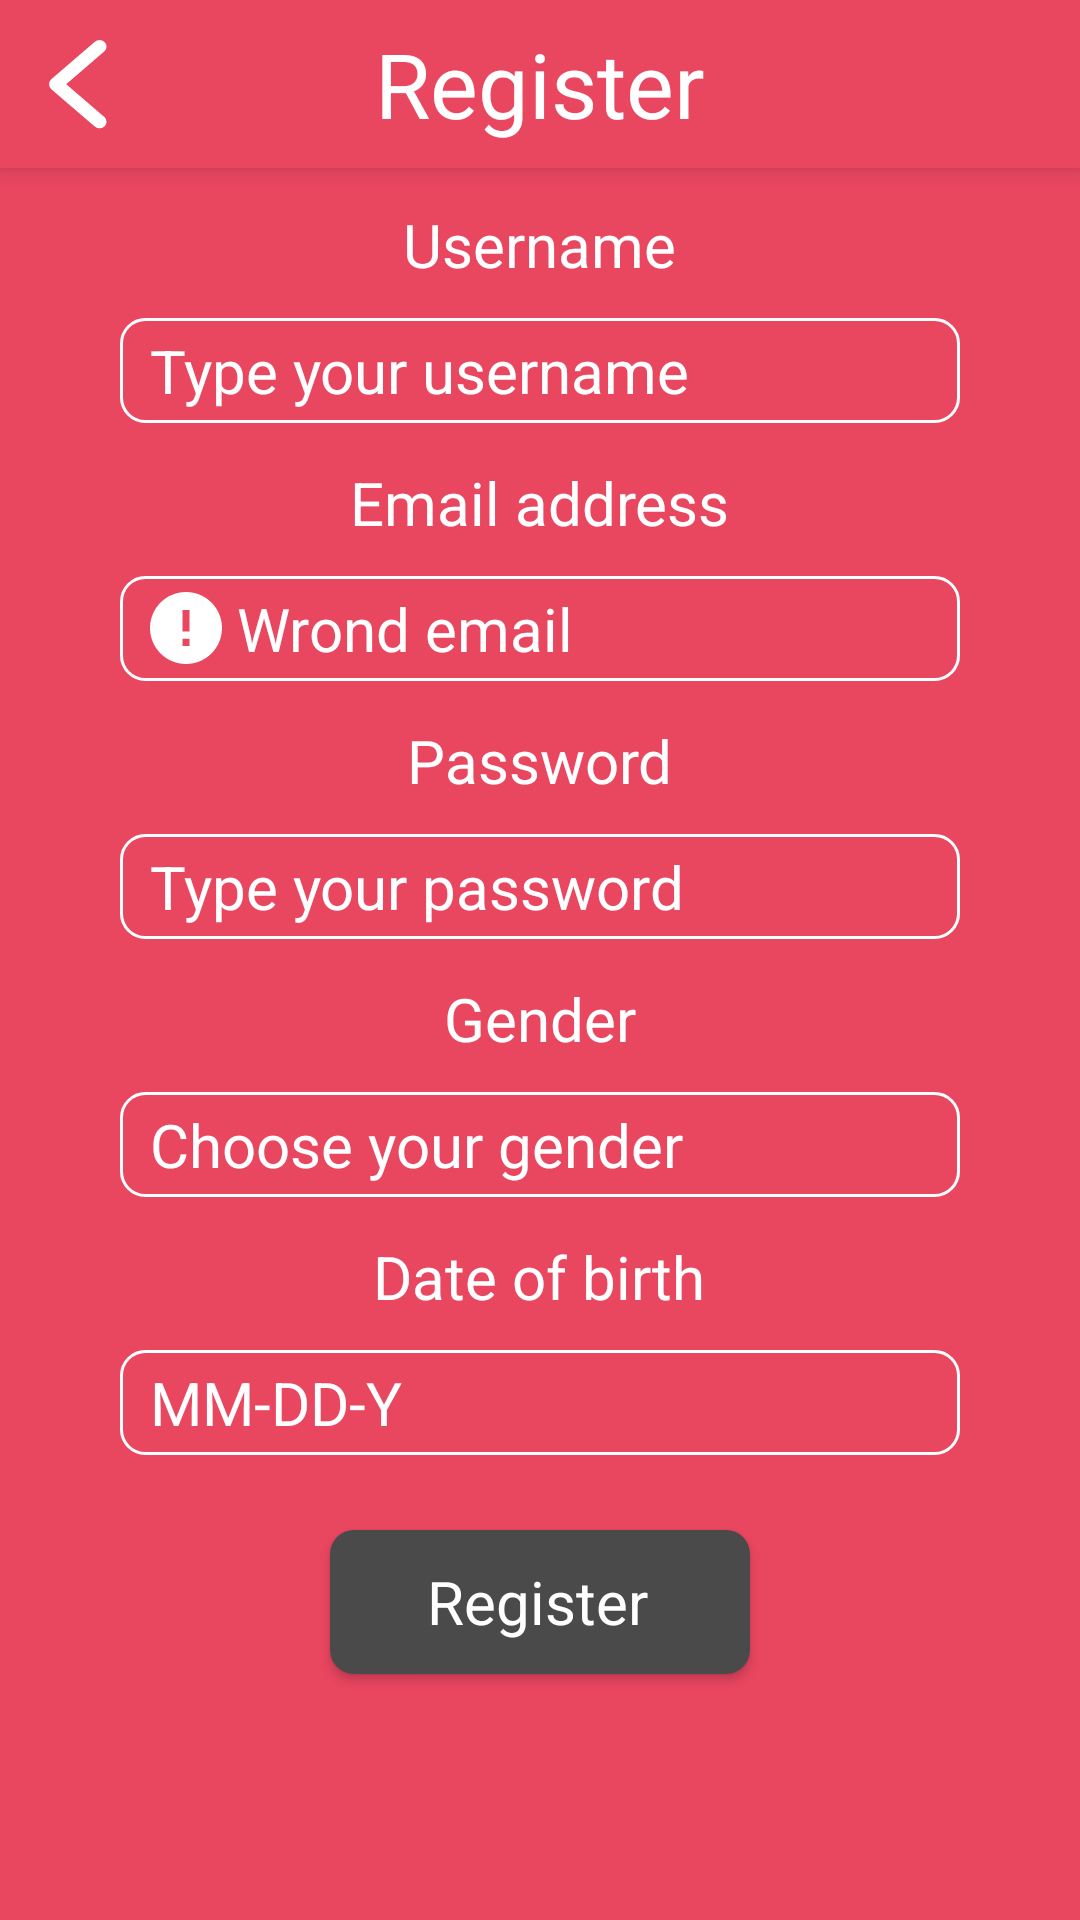

Icons on this 1080px x 1920px Android screen, each with the point to tap as (x=x, y=y):
back: (x=78, y=84)
